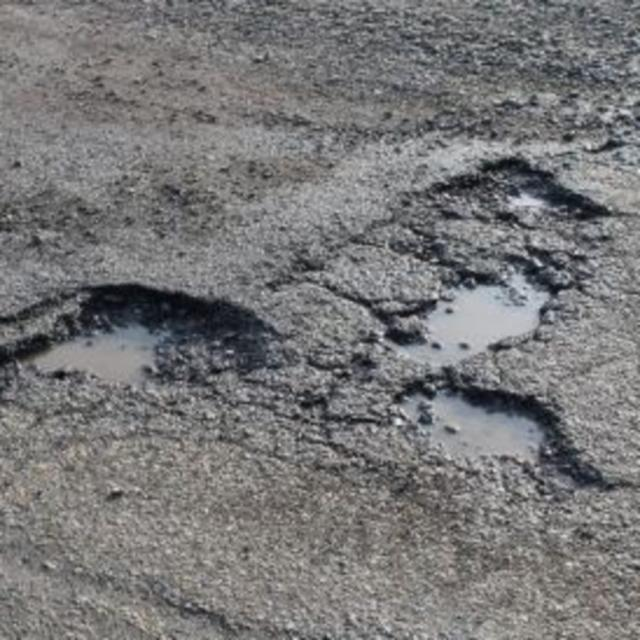pothole: (0, 268, 280, 433), (382, 245, 573, 366), (418, 121, 612, 239), (395, 374, 581, 478)
